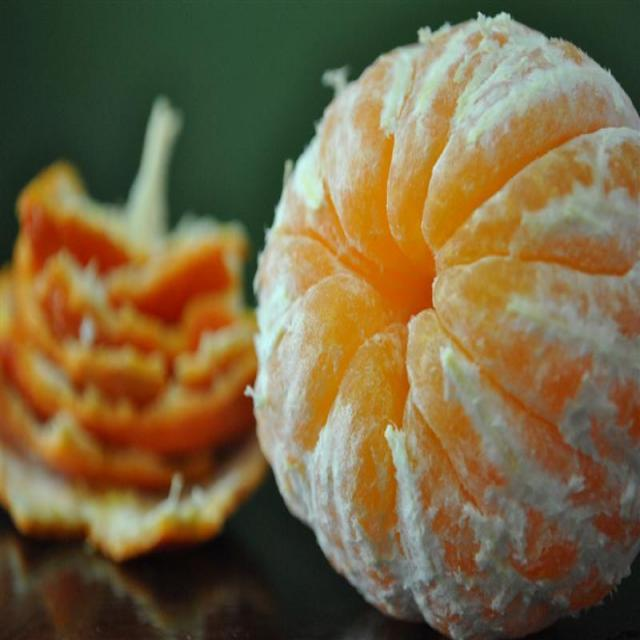10_tangerine: (250, 16, 640, 640)
